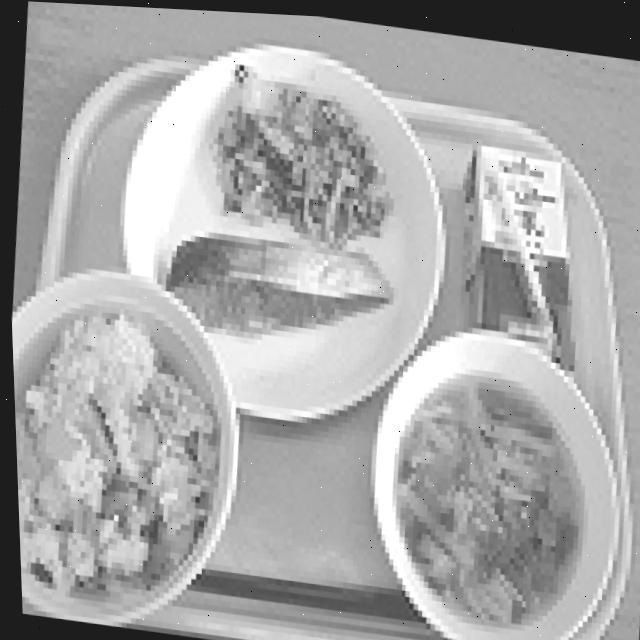熟制海鲜: (137, 179, 390, 357)
